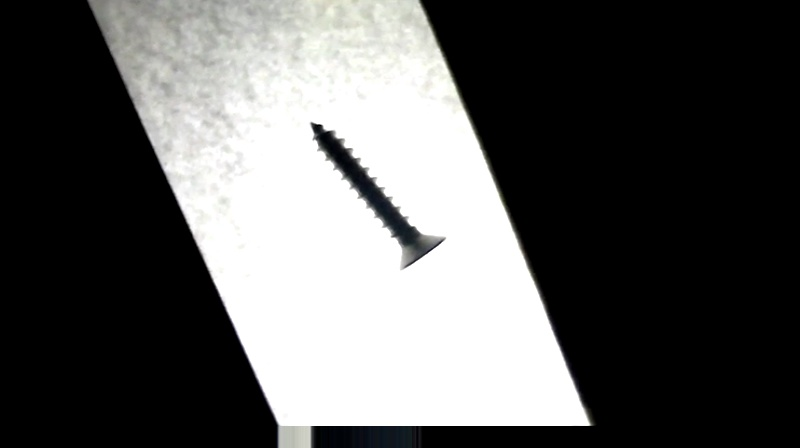S001: (305, 116, 452, 273)
